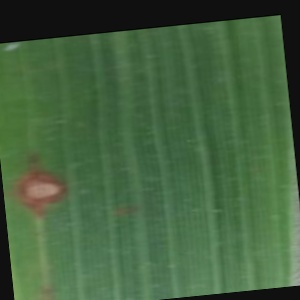Brown_Spot: (7, 145, 96, 239)
